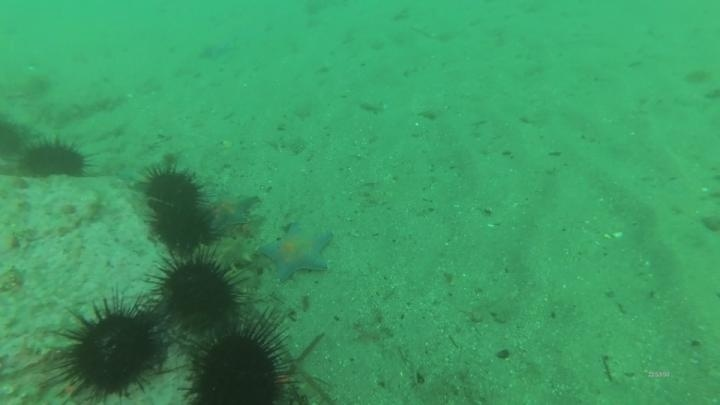echinus: (49, 293, 170, 402), (183, 320, 295, 405), (152, 251, 244, 331), (139, 161, 206, 213), (149, 204, 216, 255), (19, 135, 91, 182), (0, 116, 30, 160)
holothurian: (25, 85, 127, 129), (199, 231, 261, 273)
starfish: (257, 220, 336, 283), (202, 187, 261, 234), (195, 35, 238, 63), (114, 161, 148, 186)
